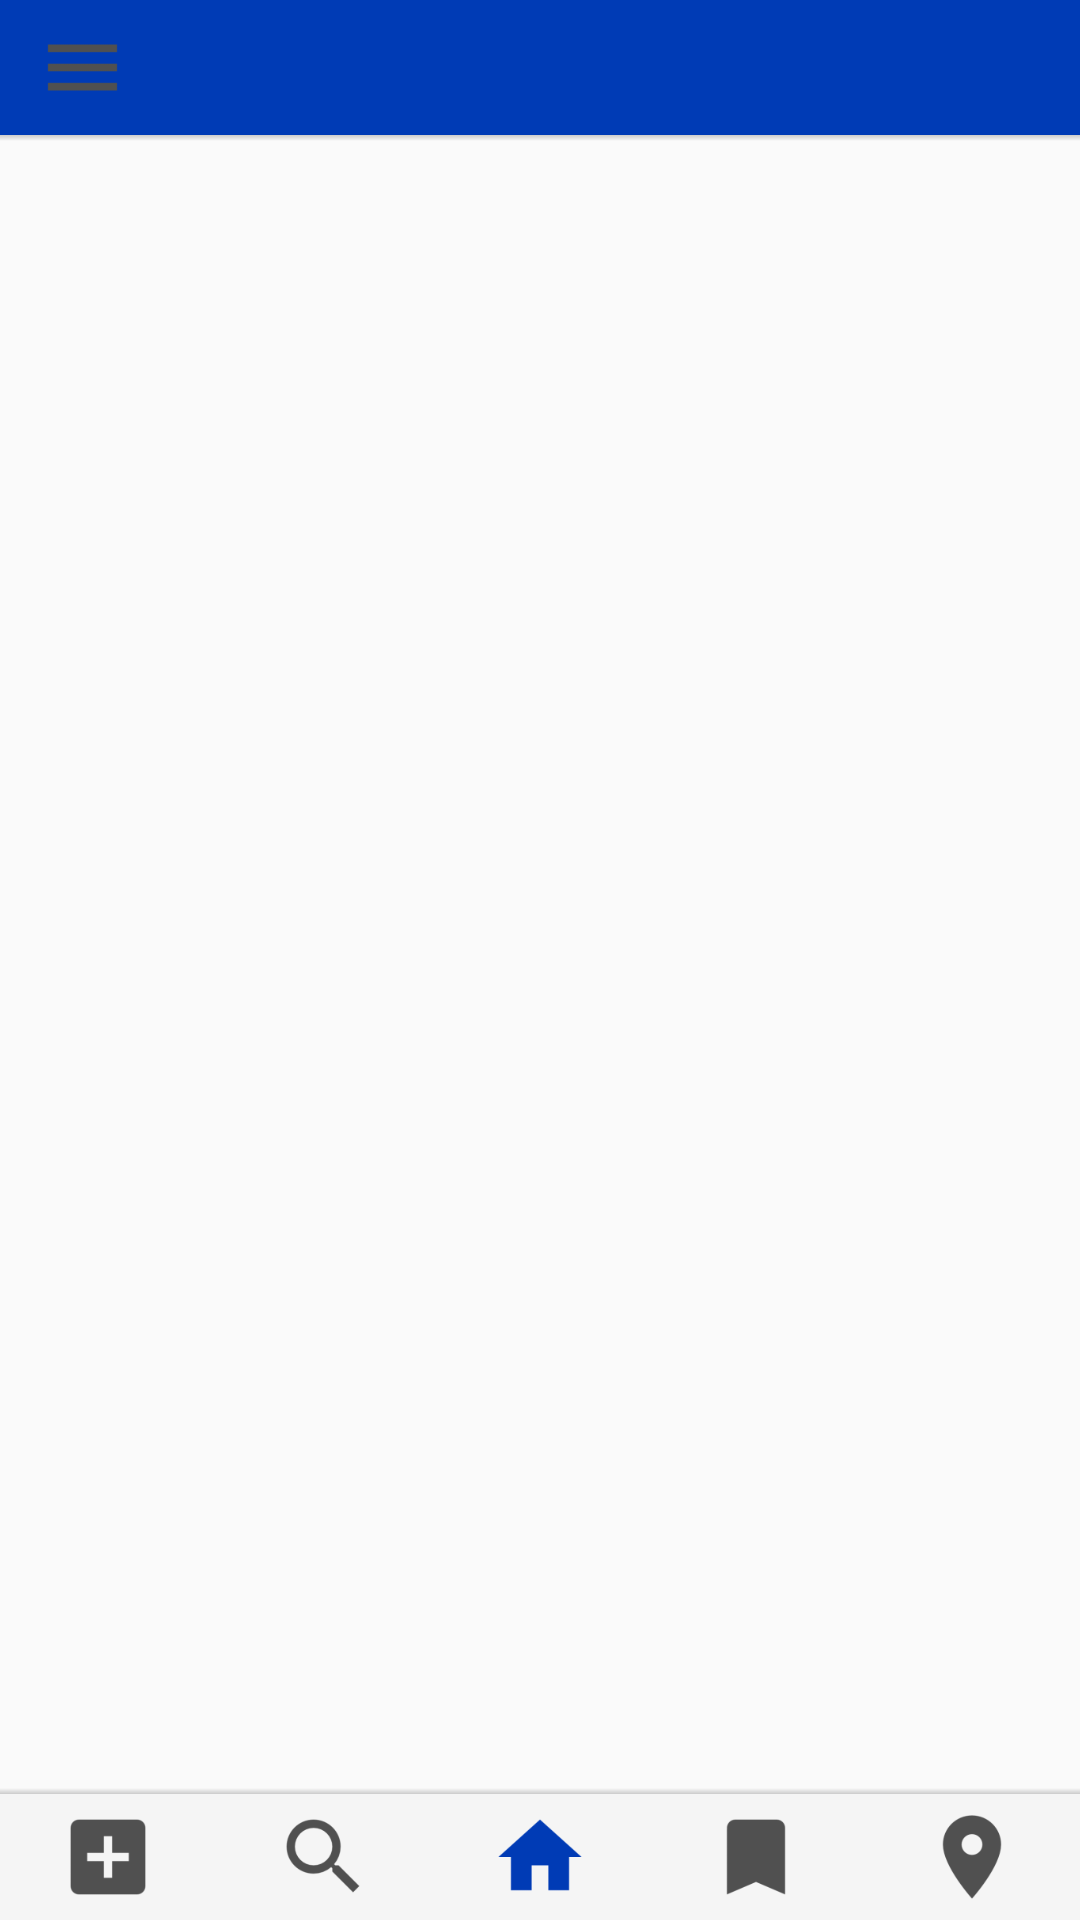

Point at icon controls on the screen. Image size 1080px x 1920px, points as [x,y].
add event: [108,1857]
bookmark: [756,1857]
home click: [540,1855]
location: [972,1857]
nav: [82,67]
search: [322,1855]
